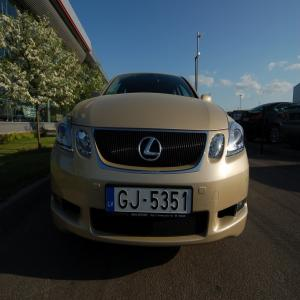Vehicle-registration-plate: (103, 185, 199, 225)
